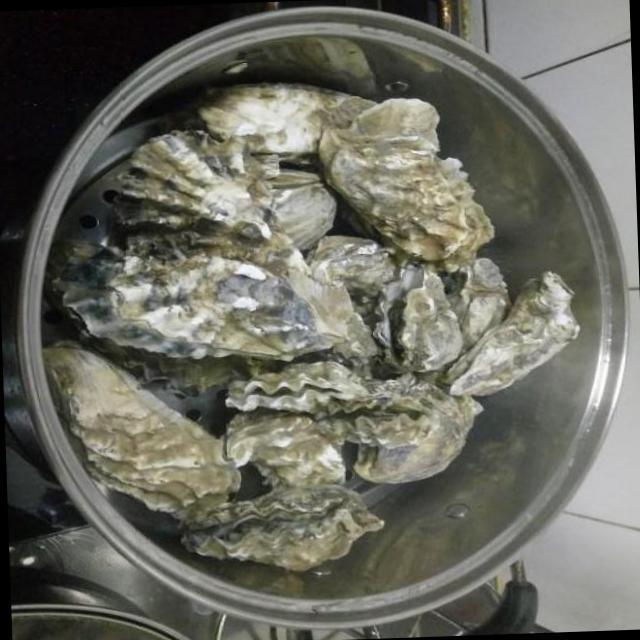Oyster- Indeterminate: (42, 220, 371, 373), (39, 336, 237, 516), (316, 94, 494, 263), (92, 124, 291, 249), (435, 263, 585, 399), (188, 74, 383, 167), (224, 412, 350, 491), (446, 254, 512, 348)
Oyster-Closed: (172, 478, 388, 582)
Oyster-Open: (350, 392, 484, 484), (373, 261, 466, 378), (224, 364, 371, 419)
